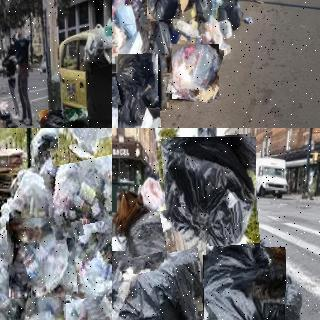Garbage: (163, 135, 258, 256), (41, 138, 112, 236), (112, 247, 207, 320), (203, 246, 285, 320), (8, 217, 77, 298), (125, 208, 198, 271), (67, 219, 112, 298), (116, 53, 159, 128), (169, 42, 222, 101), (17, 268, 72, 320), (5, 166, 56, 219), (62, 271, 112, 320), (57, 128, 112, 160), (0, 251, 24, 320), (39, 109, 89, 128), (145, 0, 181, 20), (112, 73, 126, 108), (225, 0, 242, 27)
